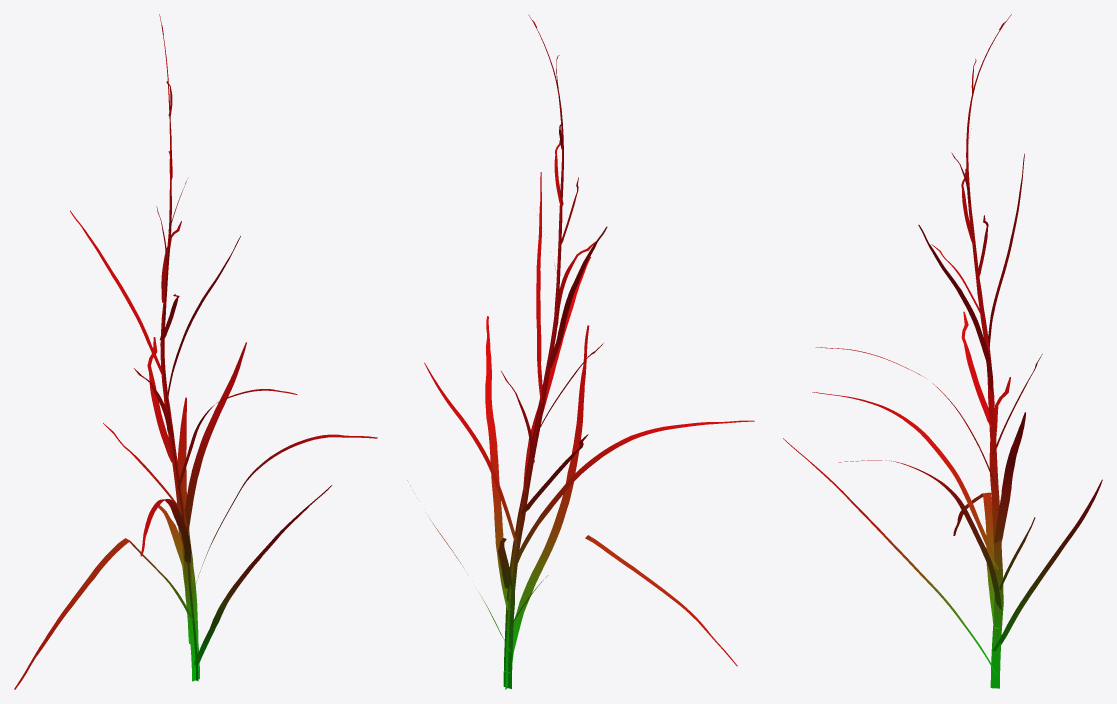
Rendered from tefocd1r_Var7_LOD0.fbx.
The picture shows the model from 3 angles, left to right: view 1: azimuth 30°, elevation 25°; view 2: azimuth 150°, elevation 25°; view 3: azimuth 270°, elevation 25°; orthographic projection. The views are drawn at different scales.
Visible parts, largest first — view 1: _0397_Var7_LOD0; view 2: _0397_Var7_LOD0; view 3: _0397_Var7_LOD0.
Part boxes in pixels (bbox=[...]): _0397_Var7_LOD0: bbox=[14, 14, 377, 689]; _0397_Var7_LOD0: bbox=[407, 14, 754, 689]; _0397_Var7_LOD0: bbox=[783, 14, 1102, 688].
Bounding box in the file's own units: 35.86 × 75.41 × 33.08.
